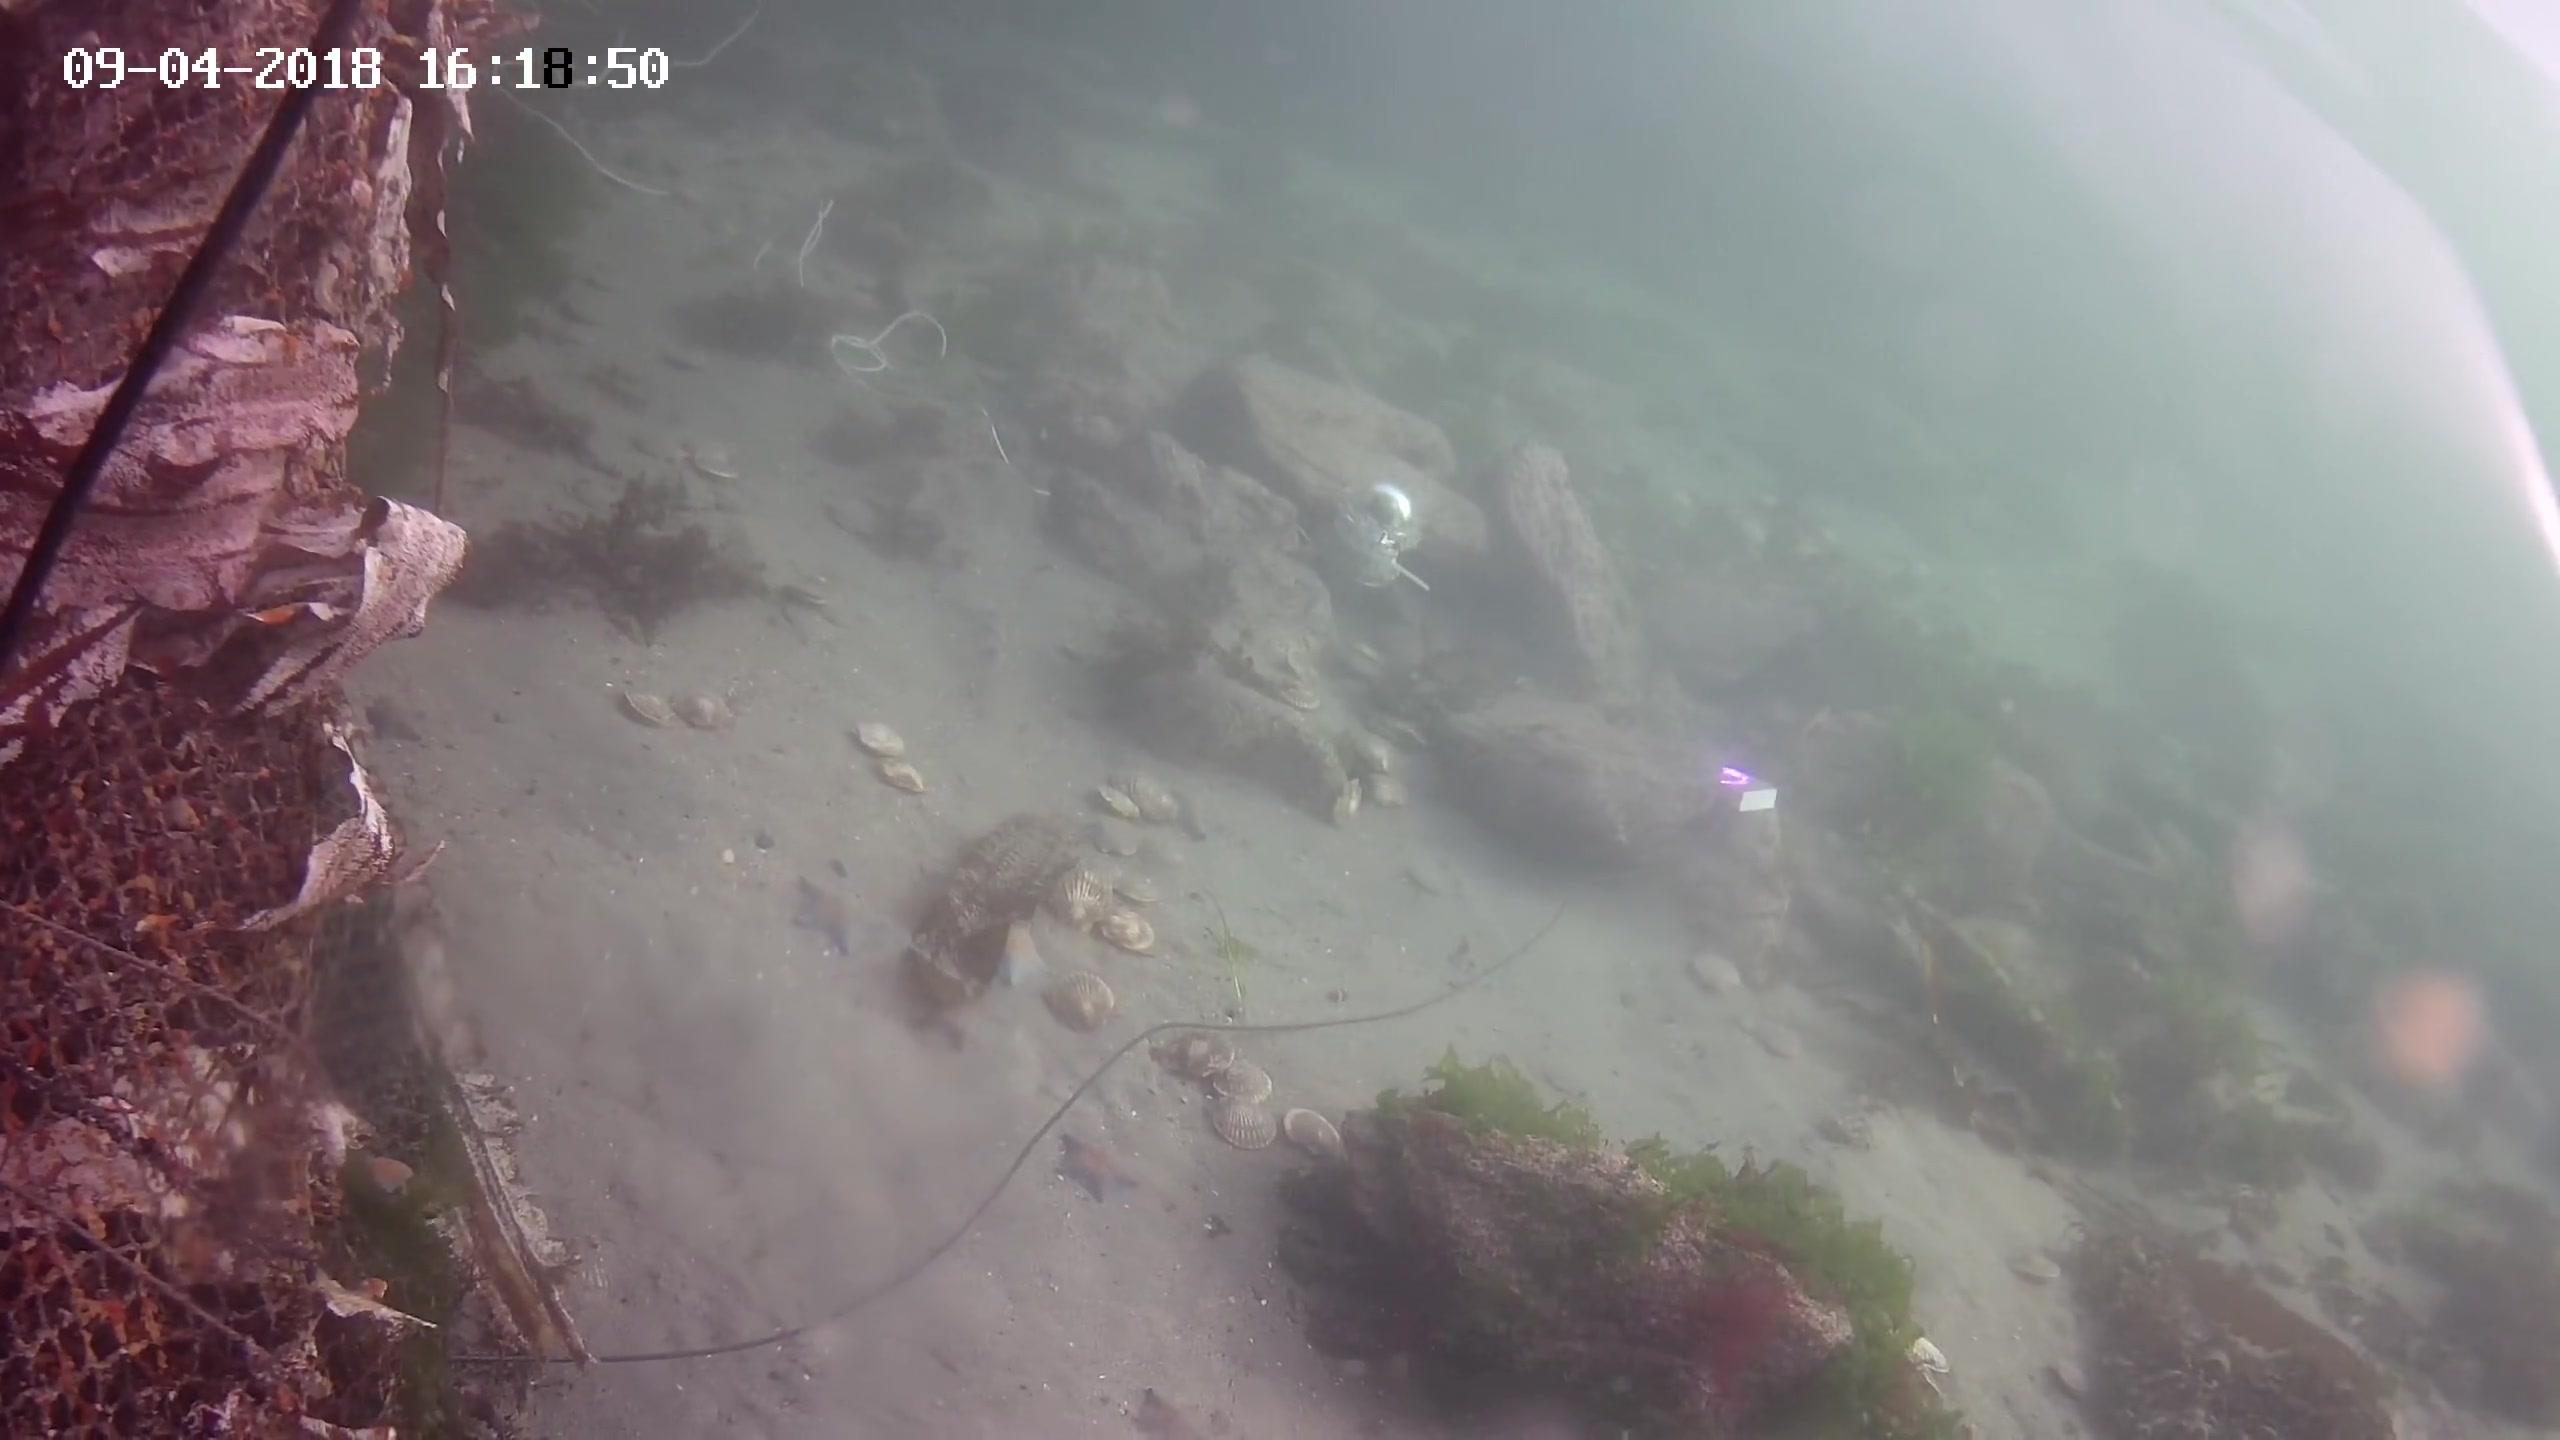scallop: (1315, 506, 1396, 594), (1199, 1092, 1285, 1159), (1276, 1097, 1356, 1169), (1041, 860, 1122, 923), (1166, 1015, 1234, 1087), (1043, 976, 1124, 1032), (1363, 471, 1417, 552), (818, 489, 891, 542), (1684, 942, 1748, 999), (1097, 905, 1159, 958), (1217, 1057, 1278, 1109), (1816, 1101, 1873, 1157), (1120, 774, 1182, 825), (666, 689, 724, 740), (680, 434, 738, 485), (1085, 781, 1145, 826), (876, 754, 941, 795), (2010, 1240, 2062, 1289), (1322, 777, 1368, 832), (1407, 858, 1466, 898), (628, 424, 693, 461), (856, 717, 913, 760), (624, 687, 679, 730), (1342, 731, 1405, 767), (1375, 714, 1435, 745), (1285, 644, 1319, 687), (1375, 774, 1410, 809), (1282, 691, 1319, 716)
starfish: (2356, 951, 2514, 1138), (2224, 805, 2338, 964), (786, 870, 879, 955), (1058, 1125, 1146, 1204), (350, 680, 436, 749), (348, 1146, 431, 1217), (904, 988, 985, 1053), (1122, 1384, 1211, 1440), (978, 921, 1048, 988), (517, 301, 584, 353)
